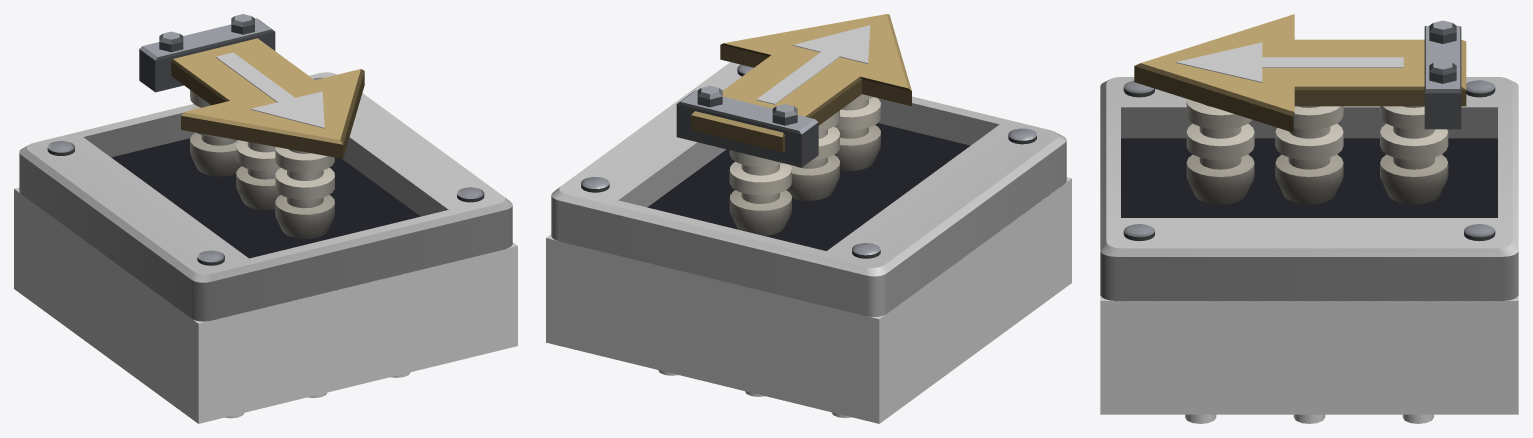
File: part_cross_bridge.glb
3 renders of one model, left to right at view 1: azimuth 30°, elevation 25°; view 2: azimuth 150°, elevation 25°; view 3: azimuth 270°, elevation 25°, orthographic. The views are drawn at different scales.
Parts seen in each view (by area): view 1: Gehaeuse, Plattform, Korpus, Licht; view 2: Gehaeuse, Plattform, Korpus, Licht; view 3: Korpus, Gehaeuse, Plattform, Licht, Stecker.
Boxes of the visible parts, x1,y1,x2,y2 form: Gehaeuse: [14, 187, 517, 423]; Plattform: [19, 72, 512, 321]; Korpus: [47, 14, 484, 265]; Licht: [215, 52, 324, 128]; Gehaeuse: [546, 177, 1071, 423]; Plattform: [551, 62, 1066, 316]; Korpus: [581, 14, 1036, 258]; Licht: [756, 25, 870, 104]; Korpus: [1121, 14, 1497, 241]; Gehaeuse: [1100, 295, 1518, 414]; Plattform: [1100, 77, 1518, 301]; Licht: [1176, 42, 1403, 82]; Stecker: [1185, 414, 1433, 423].
Size of the model in its own units: 0.8 by 0.688 by 0.8.
